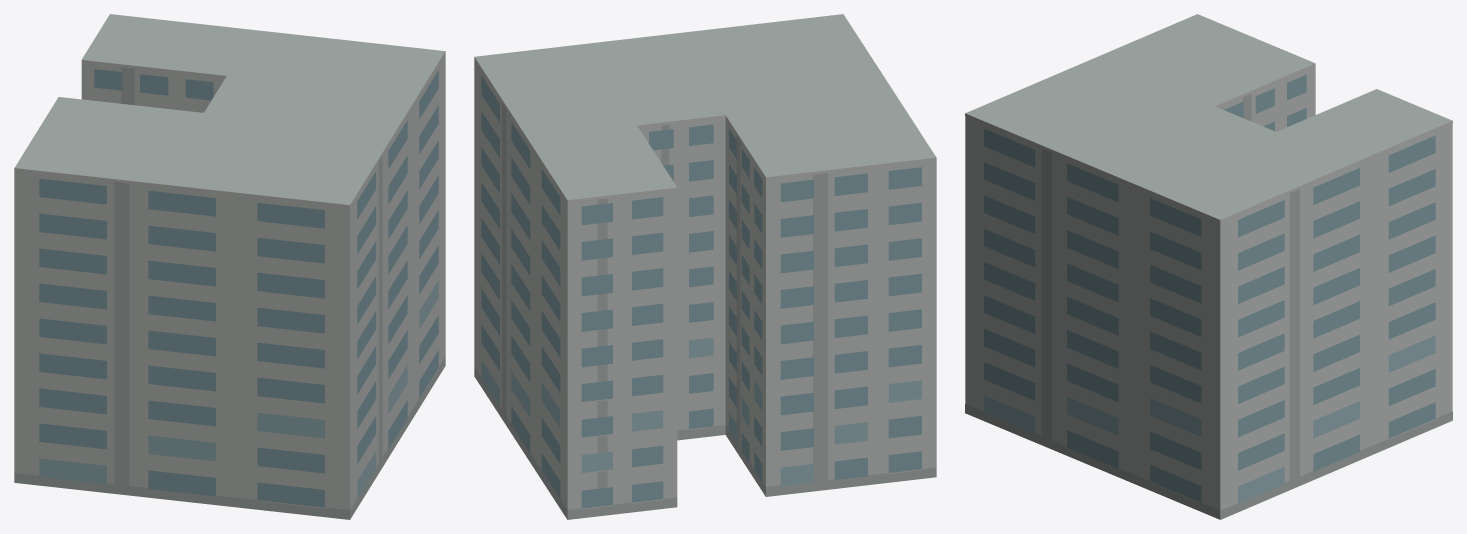
Rendered from residential-7fa2b974-7dfd-4516-bf79-2655da03e89d.glb.
3 views of the same model, side by side, from view 1: azimuth 30°, elevation 25°; view 2: azimuth 150°, elevation 25°; view 3: azimuth 270°, elevation 25° (orthographic). The views are drawn at different scales.
Visible parts, largest first — view 1: residential-7fa2b974-7dfd-4516-bf79-2655da03e89d.tmp; view 2: residential-7fa2b974-7dfd-4516-bf79-2655da03e89d.tmp; view 3: residential-7fa2b974-7dfd-4516-bf79-2655da03e89d.tmp.
Part boxes in pixels (x1,y1,x2,y2): residential-7fa2b974-7dfd-4516-bf79-2655da03e89d.tmp: [14, 14, 445, 519]; residential-7fa2b974-7dfd-4516-bf79-2655da03e89d.tmp: [474, 14, 936, 519]; residential-7fa2b974-7dfd-4516-bf79-2655da03e89d.tmp: [965, 14, 1452, 519].
Bounding box in the file's own units: 39.79 × 27 × 39.79.
